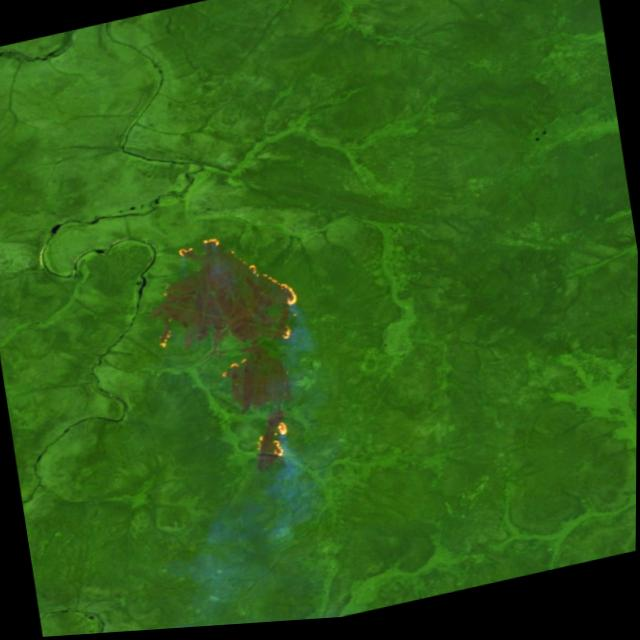fire: (139, 220, 326, 488)
